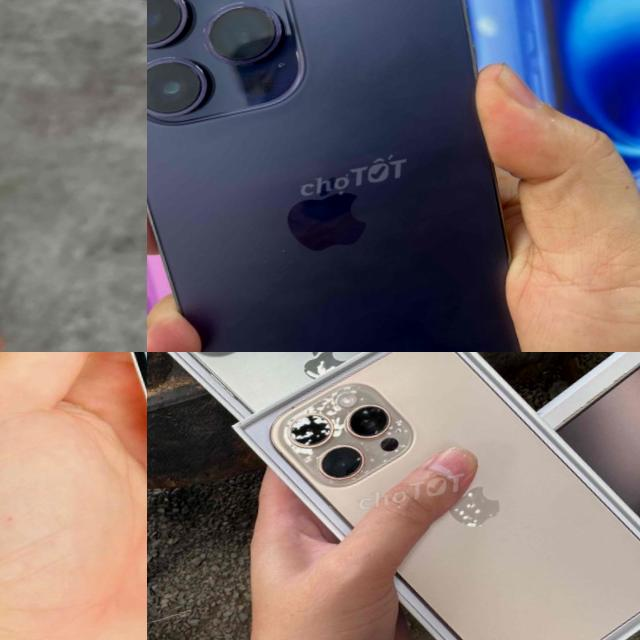gen_12_13: (0, 27, 138, 352), (52, 352, 147, 528)
gen_14: (147, 0, 573, 352)
gen_16: (263, 352, 640, 640)
